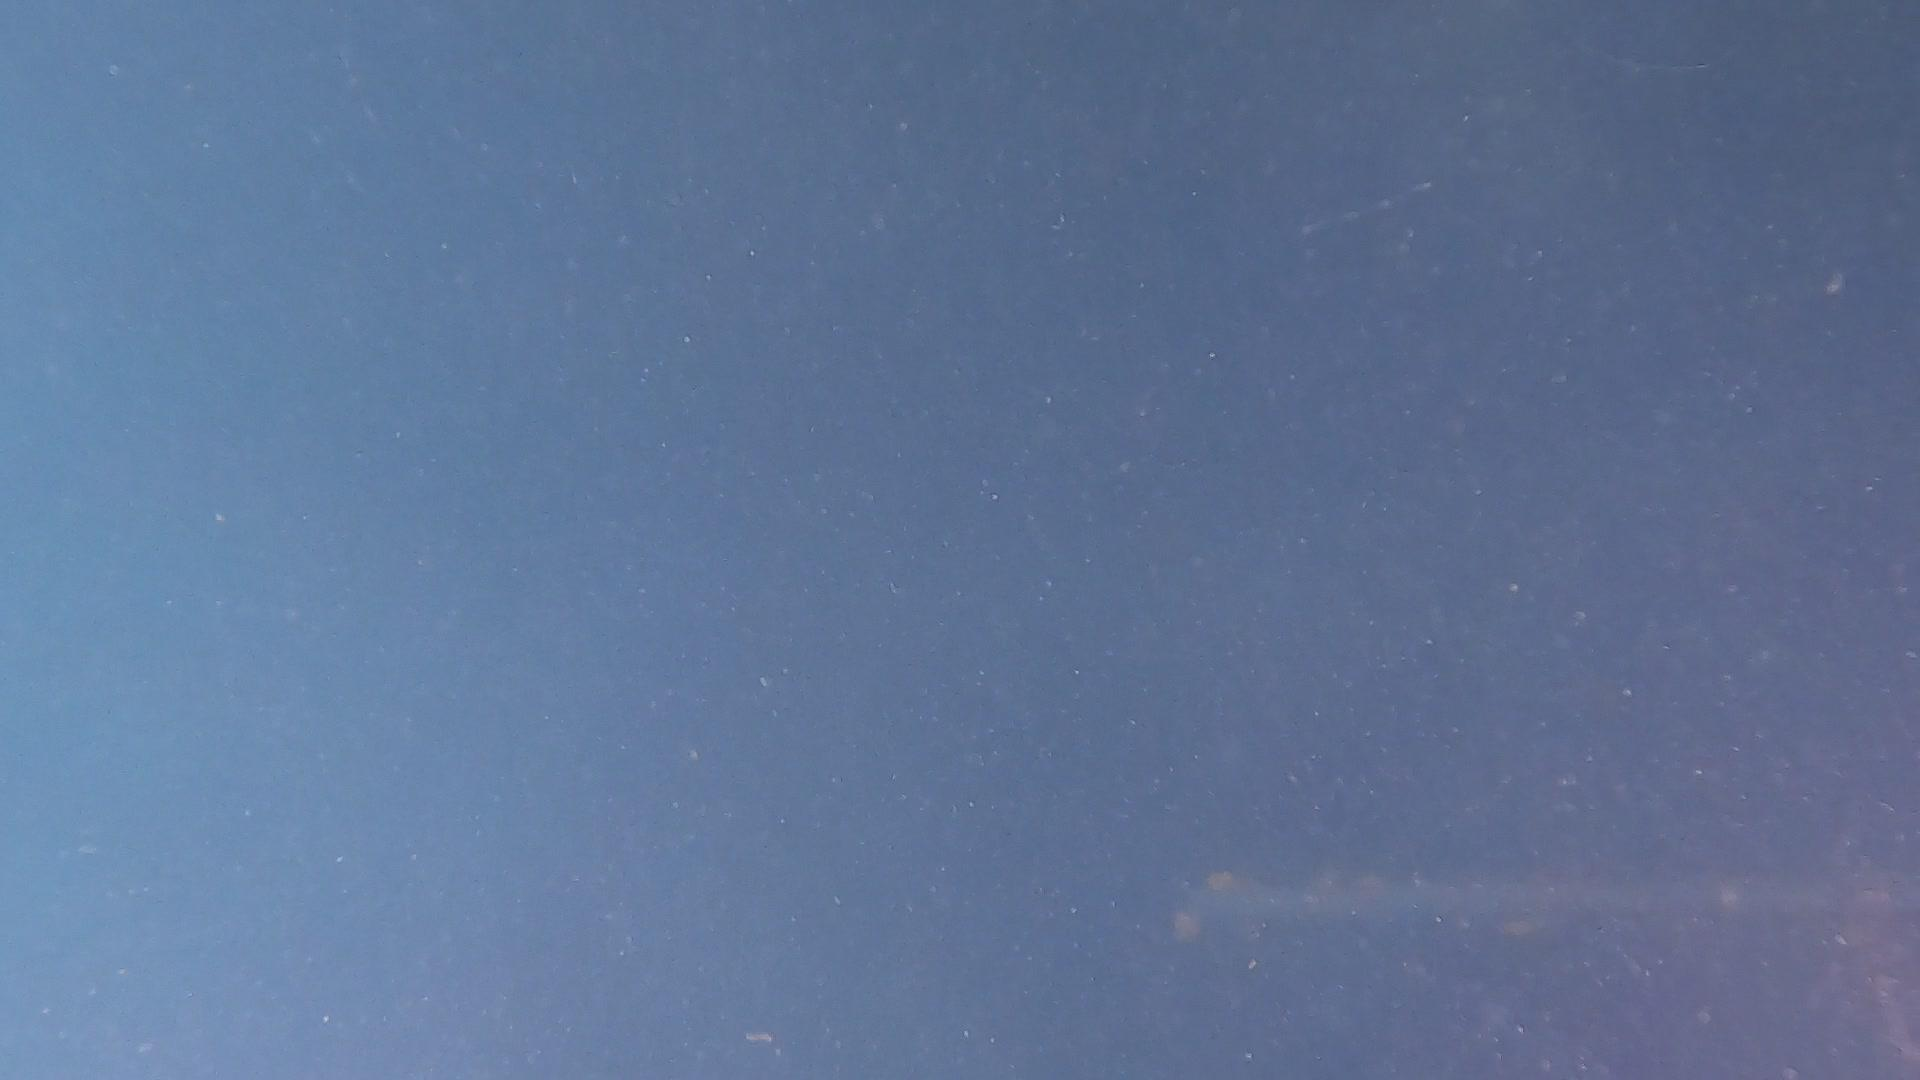fish net: (0, 0, 1269, 361)
rope: (1124, 843, 1904, 945)
